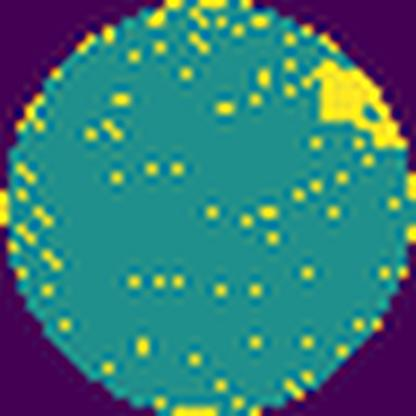Edge-Loc: (309, 56, 411, 154)
